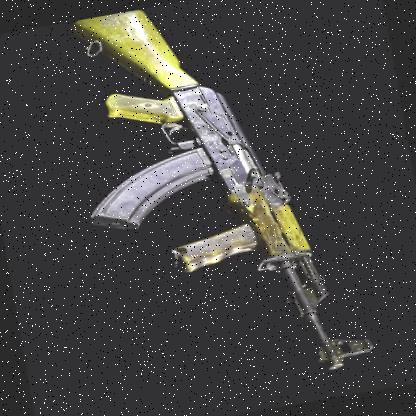rifle: (69, 0, 377, 404)
